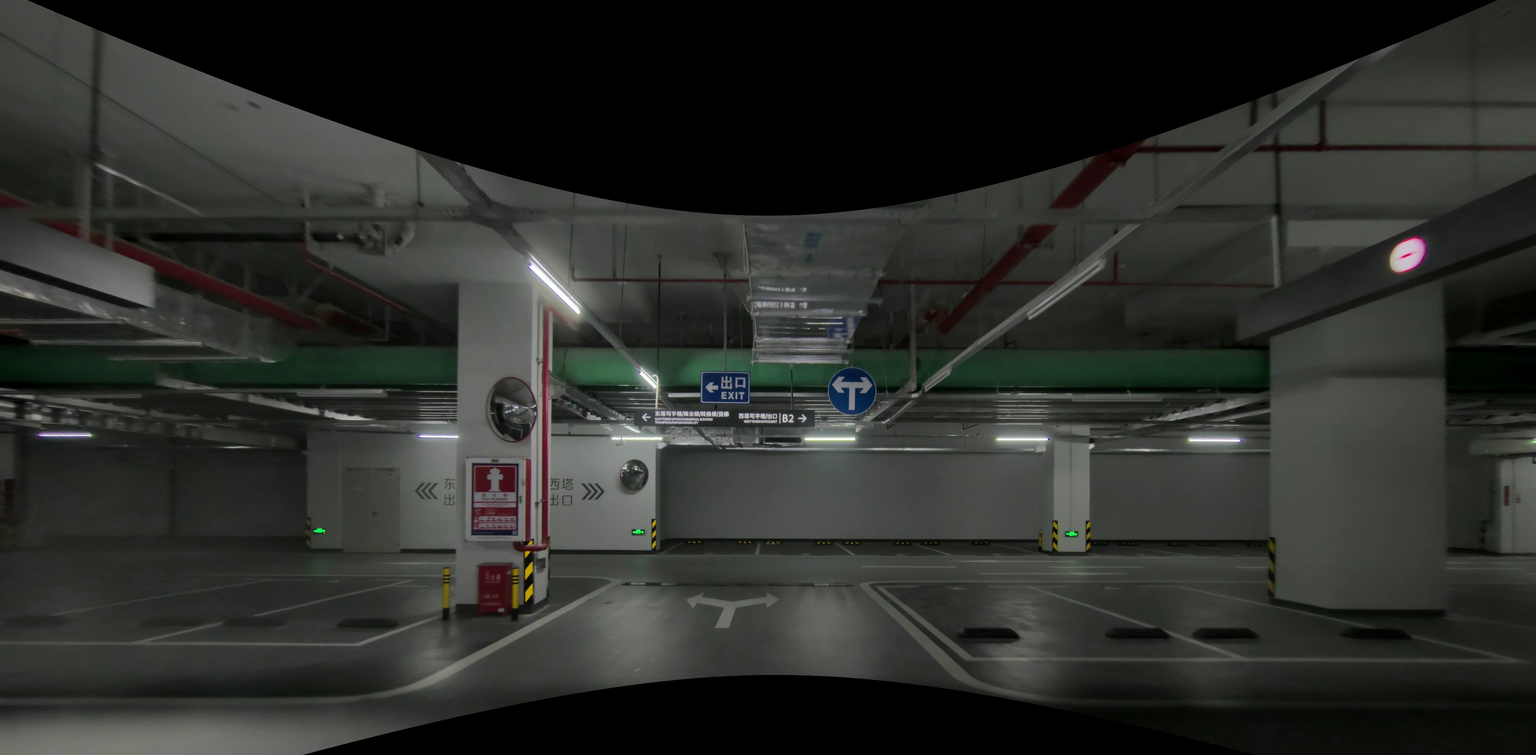B2: (782, 413, 793, 423)
EXIT: (720, 390, 745, 401)
exits: (1064, 531, 1078, 537), (631, 529, 644, 535), (313, 528, 325, 534)
东出: (445, 475, 459, 504)
东塔写字楼/商业梯/转换梯/货梯: (654, 410, 730, 417)
出口: (722, 374, 746, 389)
右: (852, 376, 871, 407), (579, 481, 604, 501), (797, 413, 808, 423)
左: (832, 375, 852, 407), (413, 481, 439, 497), (703, 380, 718, 394), (639, 412, 651, 423)
左右: (686, 591, 776, 629), (827, 367, 876, 415)
禁止通行: (1386, 237, 1426, 272)
西塔 出口: (547, 476, 574, 506)
西塔写字楼/出口: (738, 413, 777, 419)
